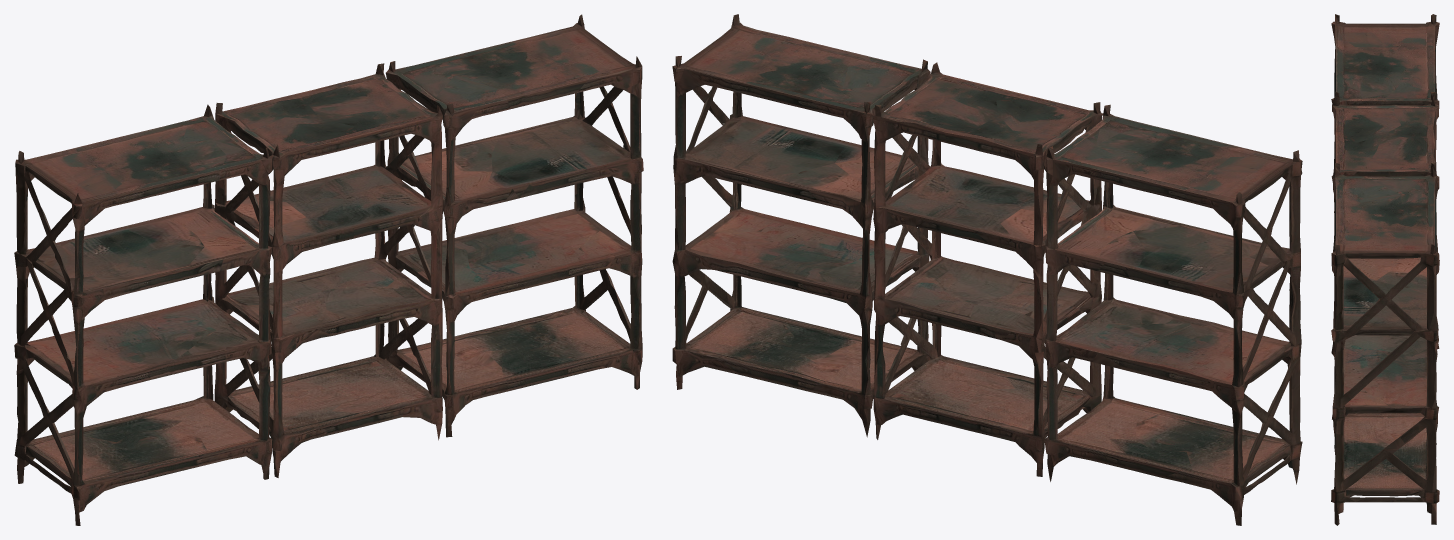
Rendered from shelf.glb.
3 renders of one model, left to right at view 1: azimuth 30°, elevation 25°; view 2: azimuth 150°, elevation 25°; view 3: azimuth 270°, elevation 25°, orthographic. The views are drawn at different scales.
Visible parts, largest first — view 1: mesh_node; view 2: mesh_node; view 3: mesh_node.
Boxes of the visible parts, box(x1,y1,x2,y2) form: mesh_node: box(14, 14, 643, 525); mesh_node: box(672, 14, 1302, 525); mesh_node: box(1331, 14, 1439, 525).
Size of the model in its own units: 1.89 by 1.06 by 0.3705.
Materials: 1 (1 with a texture image).
